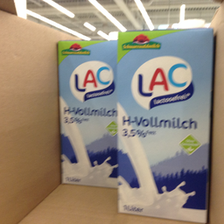milk: (117, 28, 213, 224), (60, 37, 119, 190)
